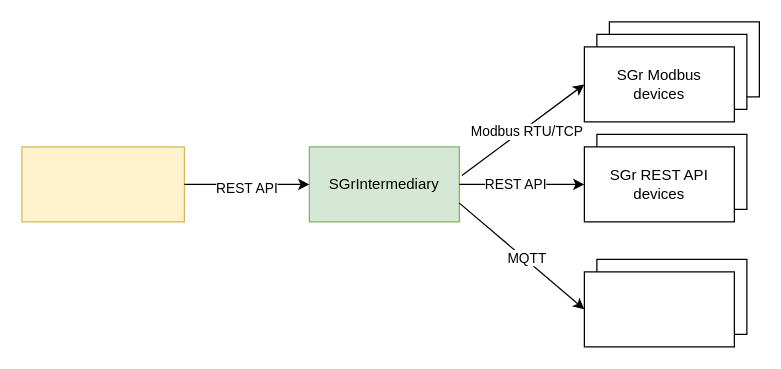
This 781x369 diagram has some shape labels left out. Here are the shapes that lost their labels. From the top down, the box of each, then its label:
(21, 146, 184, 222): Communicator (e.g. Energy Manager)
(583, 271, 734, 347): SGr MQTT devices
